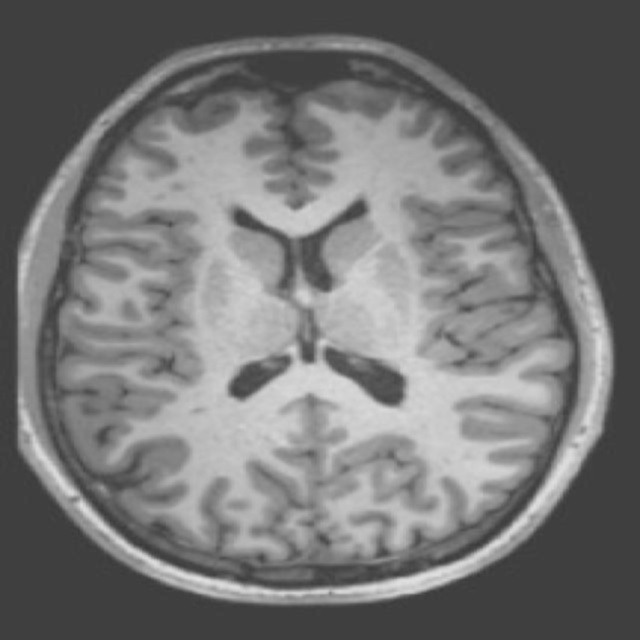glioma tumor: (116, 90, 524, 522)
